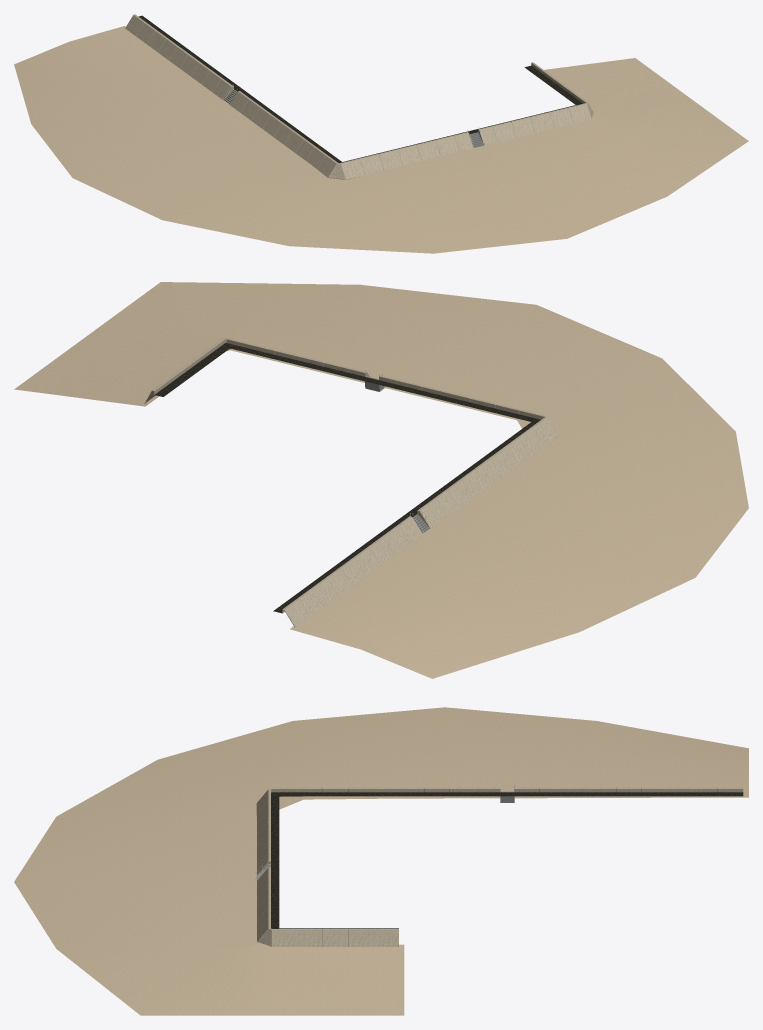
Rendered from ground_soil.FBX.
3 views of the same model, one above another, from view 1: azimuth 30°, elevation 25°; view 2: azimuth 150°, elevation 25°; view 3: azimuth 270°, elevation 25° (orthographic). The views are drawn at different scales.
Visible parts, largest first — view 1: Line002, Box072, Plane204; view 2: Line002, Box072, Plane204; view 3: Line002, Box072, Plane204.
Part boxes in pixels (<box>): Line002: <box>14,26,748,253</box>; Box072: <box>125,14,593,179</box>; Plane204: <box>138,15,582,163</box>; Line002: <box>14,282,748,678</box>; Box072: <box>144,338,558,627</box>; Plane204: <box>155,343,540,613</box>; Line002: <box>14,707,748,1015</box>; Box072: <box>256,787,743,946</box>; Plane204: <box>271,792,743,928</box>.
Bounding box in the file's own units: 208635 × 9286 × 210137.
